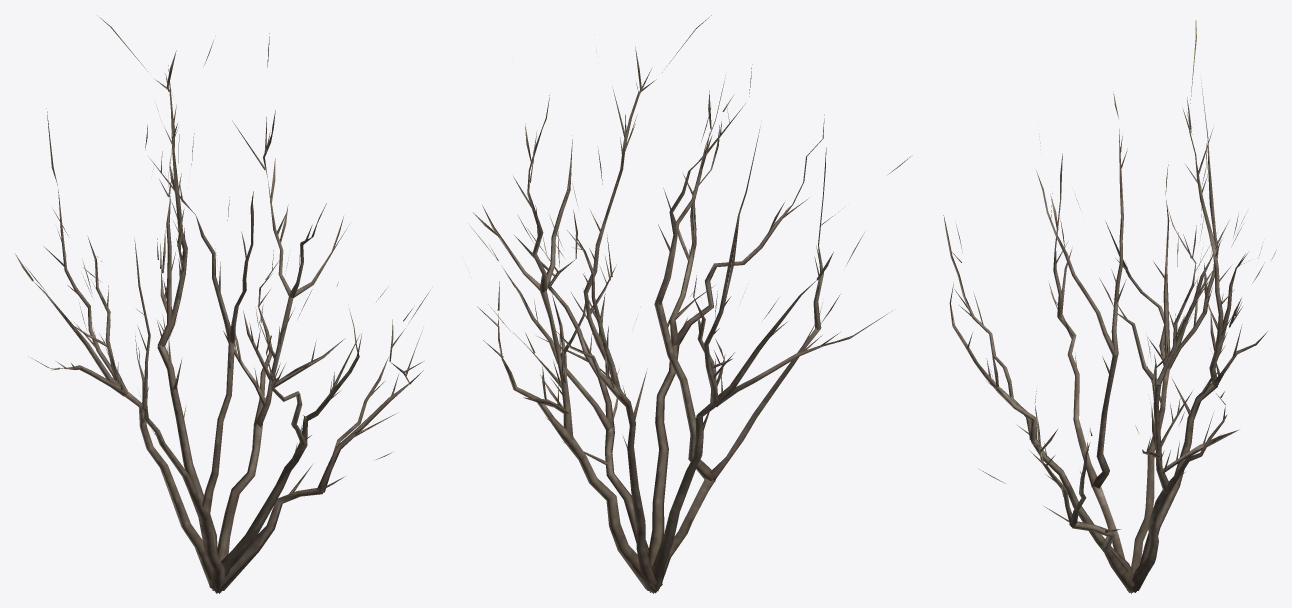
File: searsia_d.glb
The picture shows the model from 3 angles, left to right: view 1: azimuth 30°, elevation 25°; view 2: azimuth 150°, elevation 25°; view 3: azimuth 270°, elevation 25°; orthographic projection. The views are drawn at different scales.
Parts seen in each view (by area): view 1: lod0; view 2: lod0; view 3: lod0.
Boxes of the visible parts, box(x1,y1,x2,y2) form: lod0: box(15, 15, 430, 593); lod0: box(469, 15, 912, 593); lod0: box(943, 20, 1276, 593).
Size of what is drawn, in the model's own units: 0.9302 by 1.28 by 0.7182.
1 material, 1 textured.
